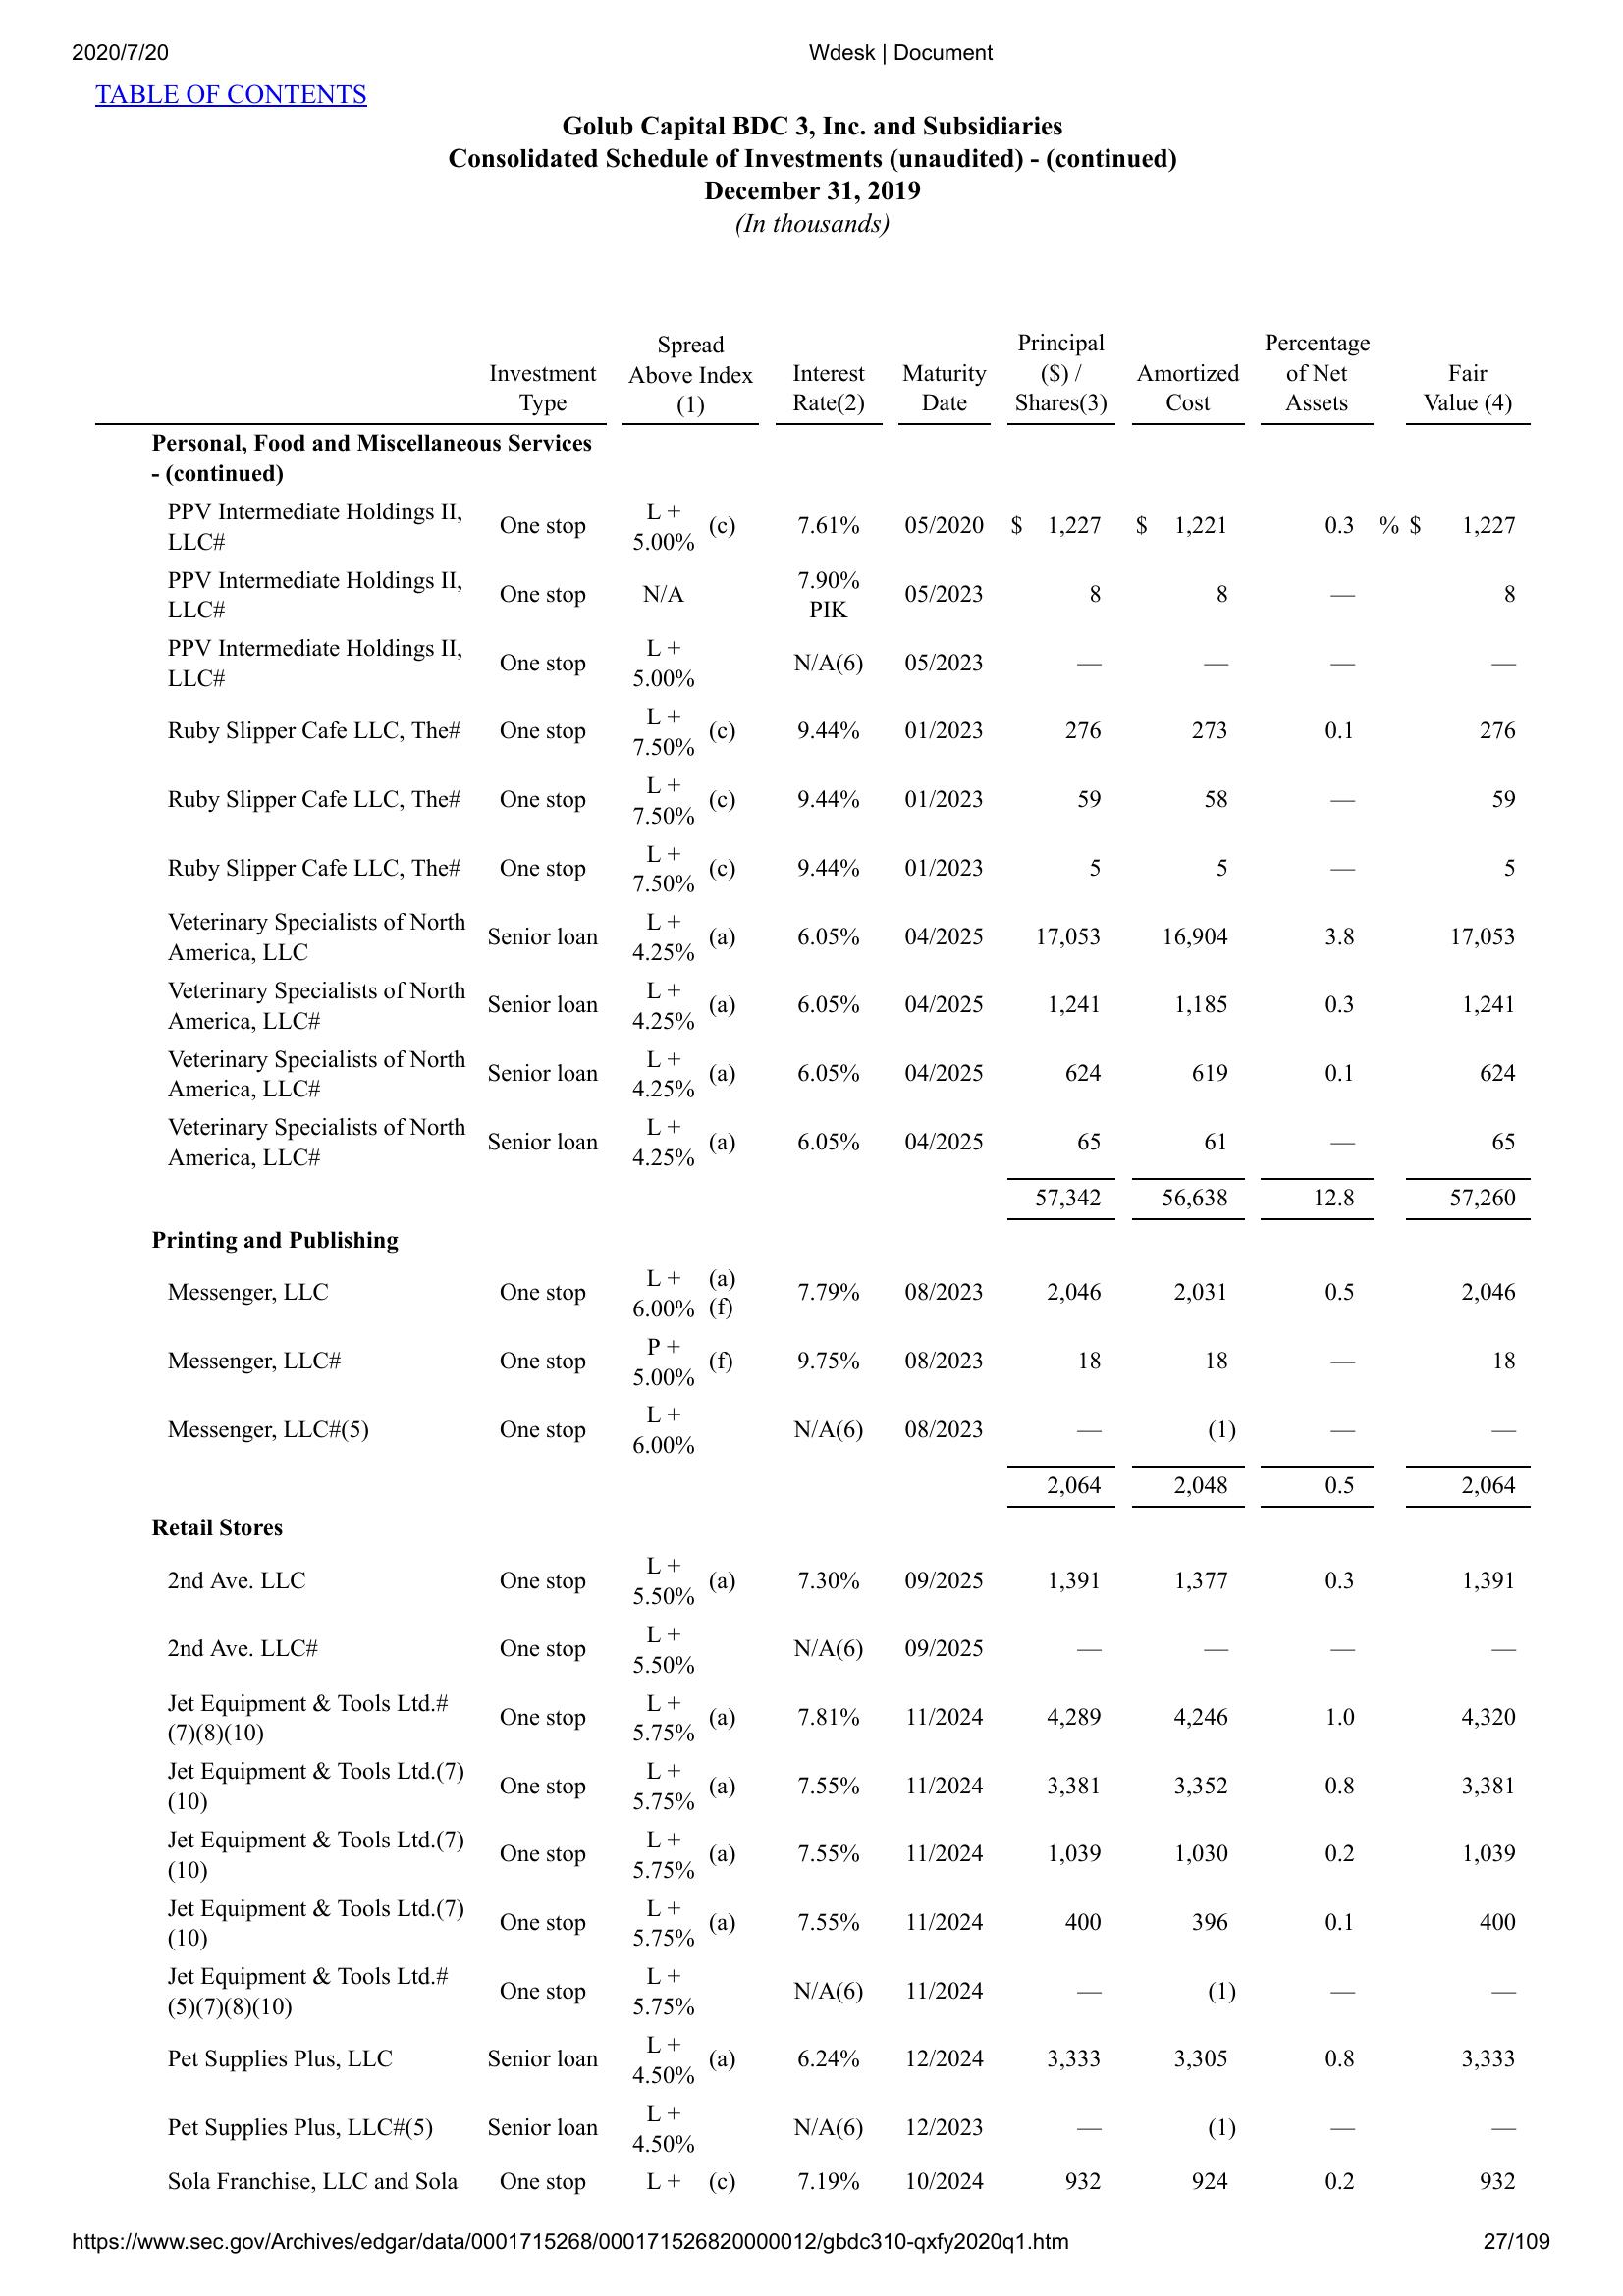table: (88, 328, 1537, 2199)
